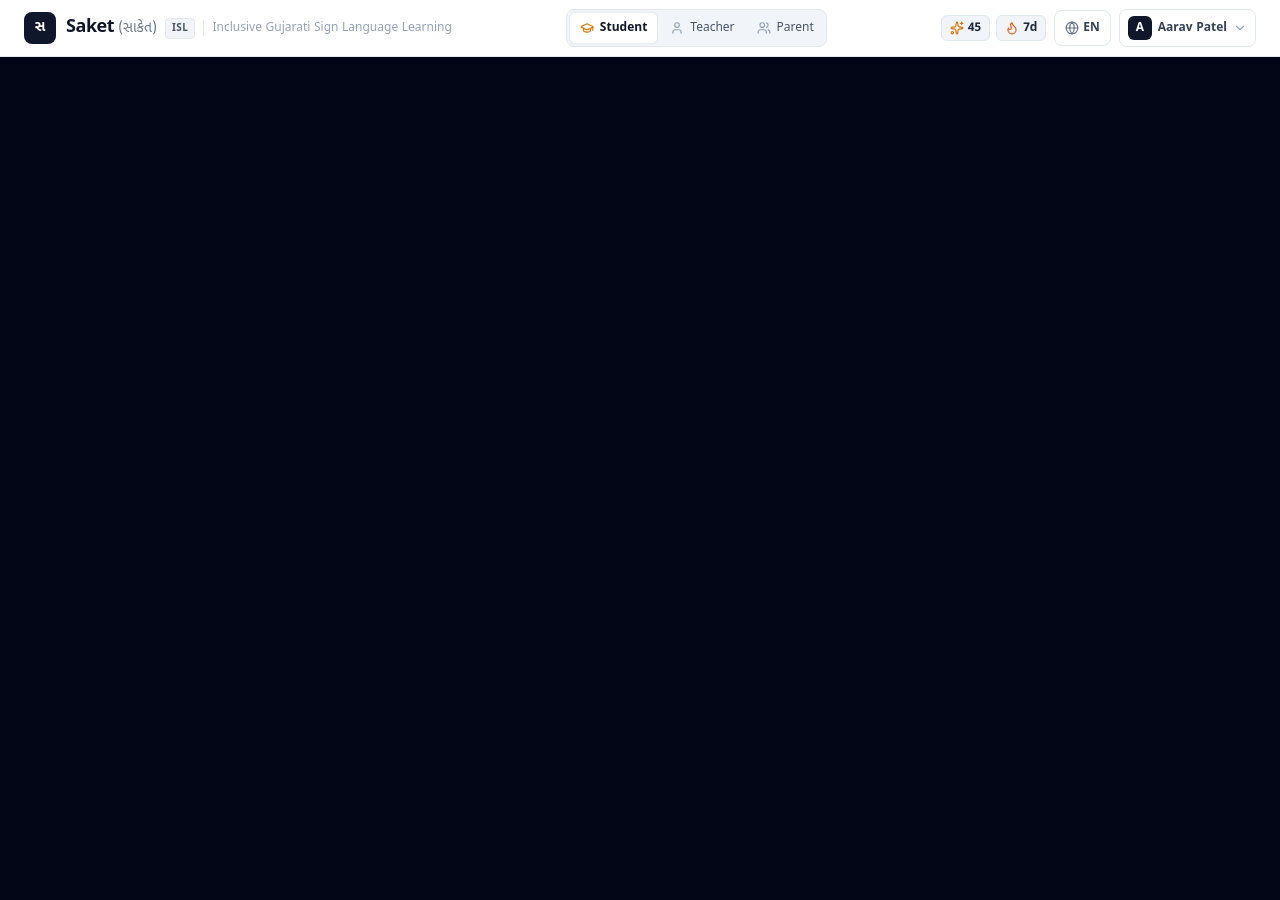
Scenario: Header component › credits dialog opens from menu and displays ISLRTC attribution
This screenshot has width=1280, height=900.
Click the button with aria-label "account and settings menu" at (1187, 28), box [1119,9,1256,47]
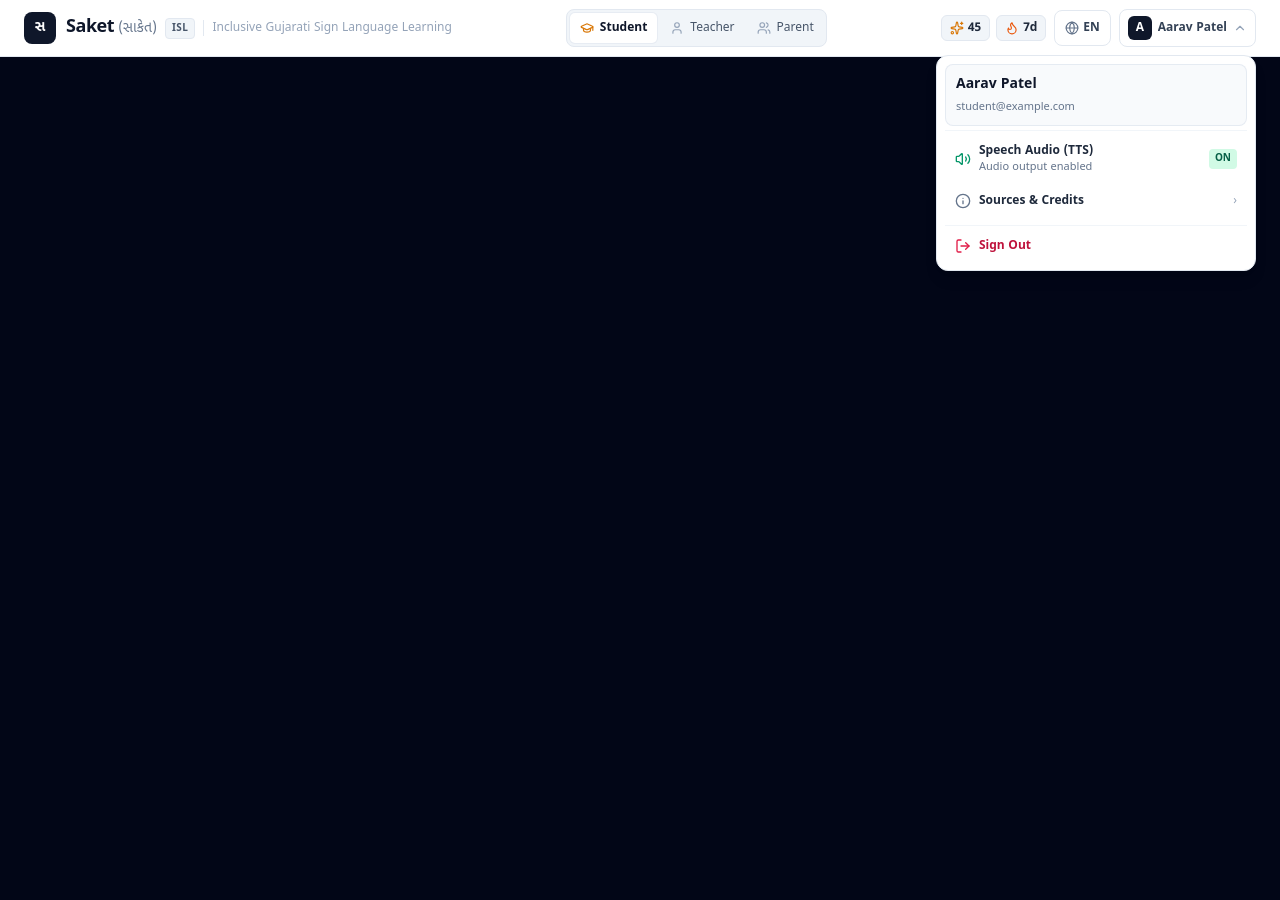
# Click credits option
Click the text "Sources & Credits" at (1031, 201), box [979,193,1084,209]
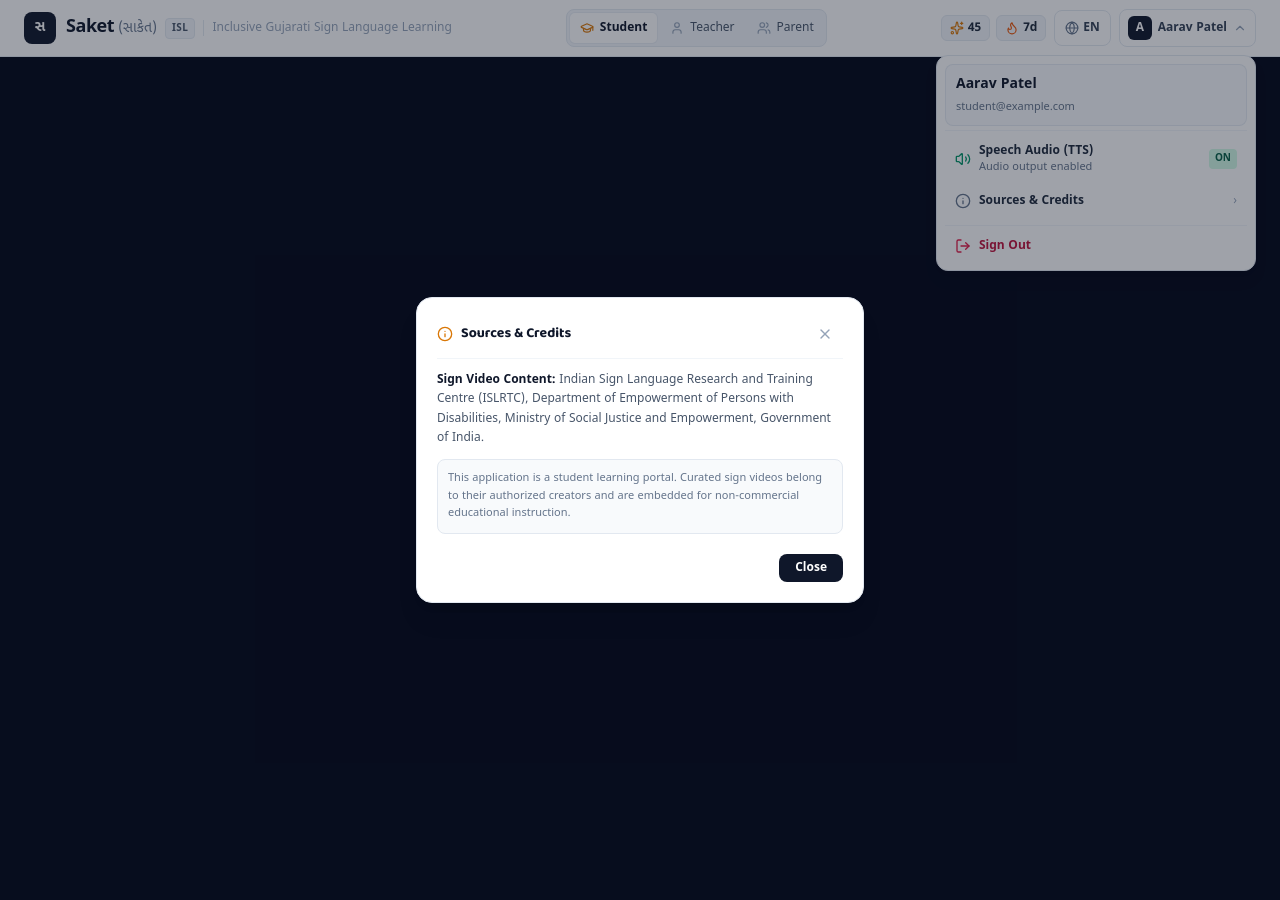
Check: the dialog is shown
Check: the text "Indian Sign Language Research and Training Centre (ISLRTC)" is shown, box [437,372,831,446]
# Close dialog
Click the button named "close credits dialog" at (827, 334), box [811,318,843,350]
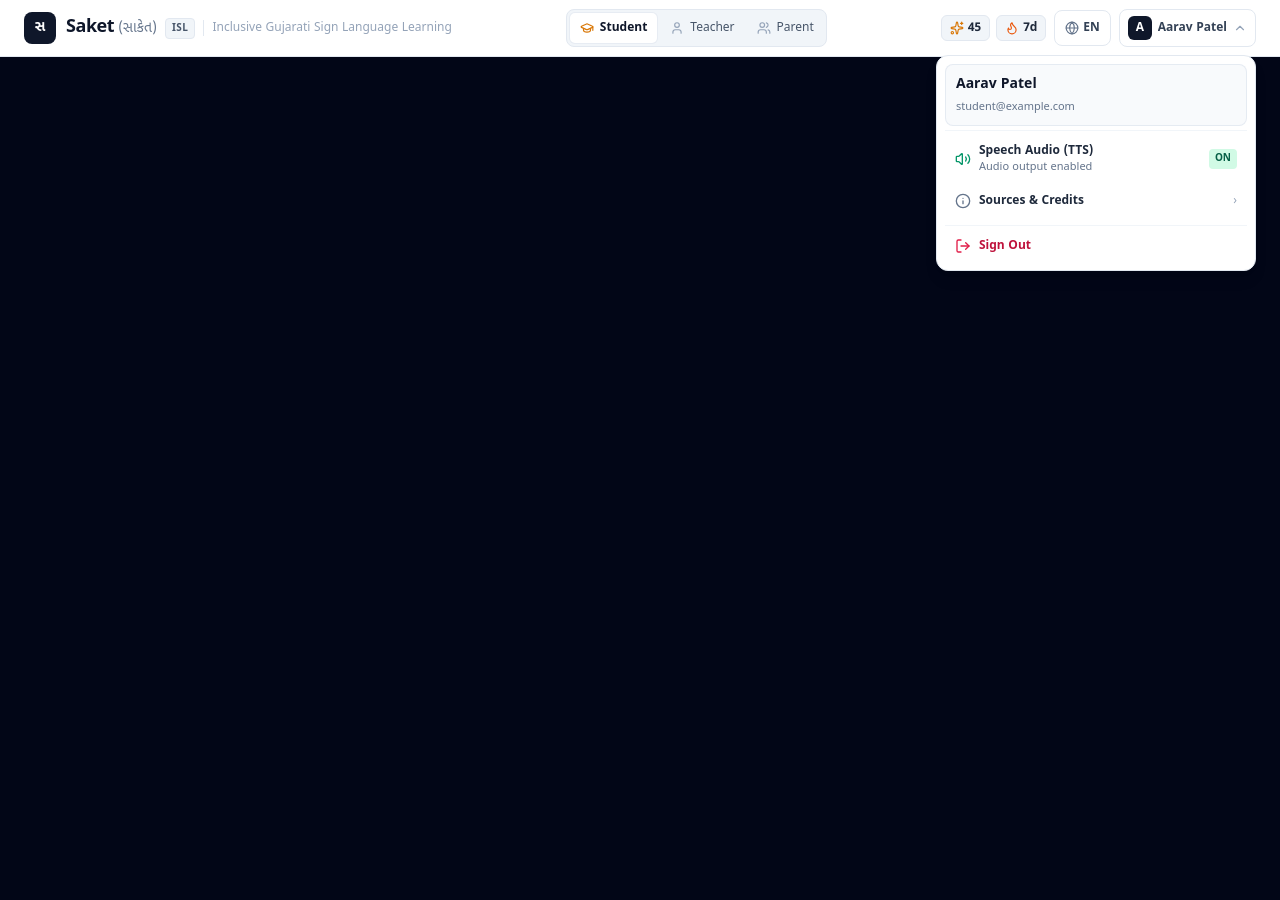
Check: the dialog is gone
